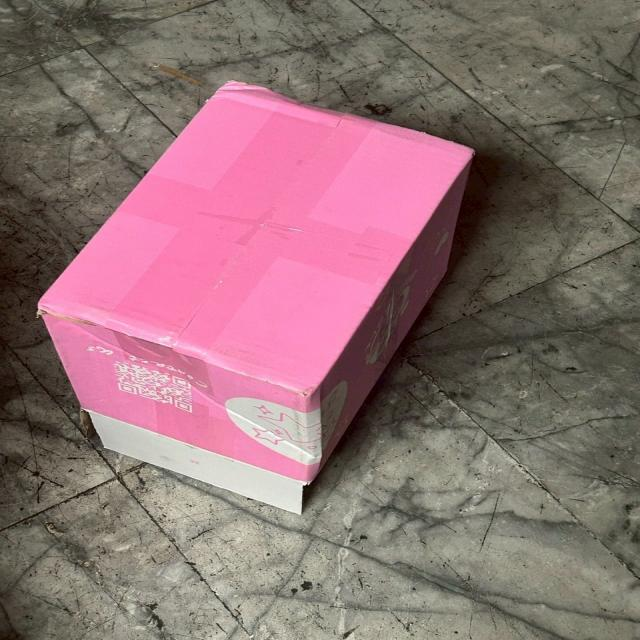cardboard: (39, 80, 470, 513)
